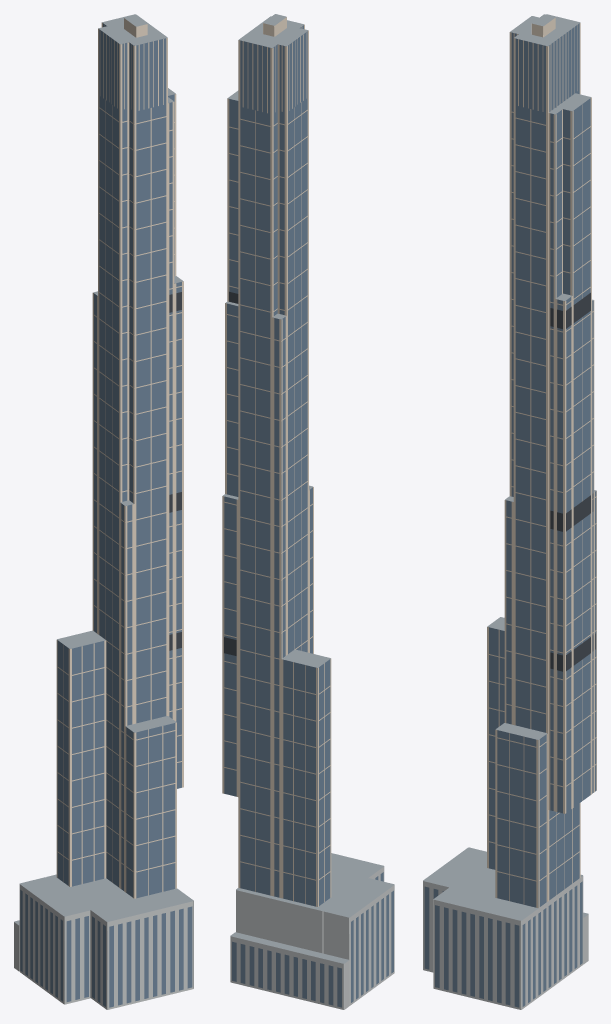
File: nyc-central-park-tower.glb
3 renders of one model, left to right at view 1: azimuth 30°, elevation 25°; view 2: azimuth 150°, elevation 25°; view 3: azimuth 330°, elevation 25°, orthographic.
Visible parts, largest first — view 1: Central Park Tower; view 2: Central Park Tower; view 3: Central Park Tower.
Part boxes in pixels (<box>): Central Park Tower: <box>14,14,193,1009</box>; Central Park Tower: <box>222,14,394,1009</box>; Central Park Tower: <box>423,14,596,1009</box>.
Size of the model in its own units: 68.11 by 472 by 60.78.
